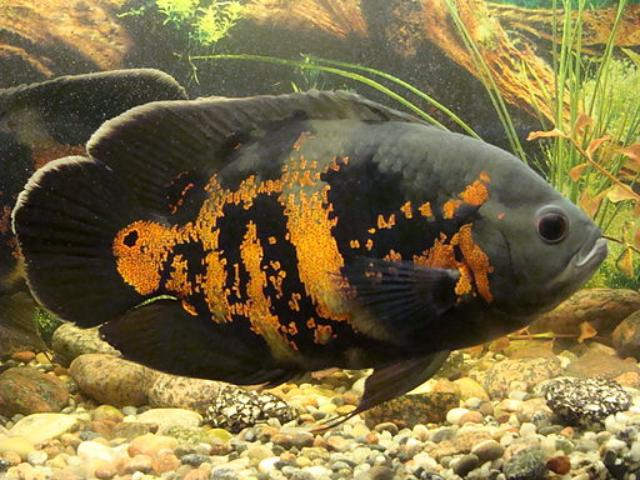Mulut: (562, 202, 630, 284)
Sirip Anal: (93, 288, 294, 389)
Sirip Dada: (332, 243, 472, 355)
Sirip Ekor: (10, 148, 148, 330)
Sirip Perut: (312, 340, 458, 424)
Sirip Punggung: (84, 82, 400, 184)
